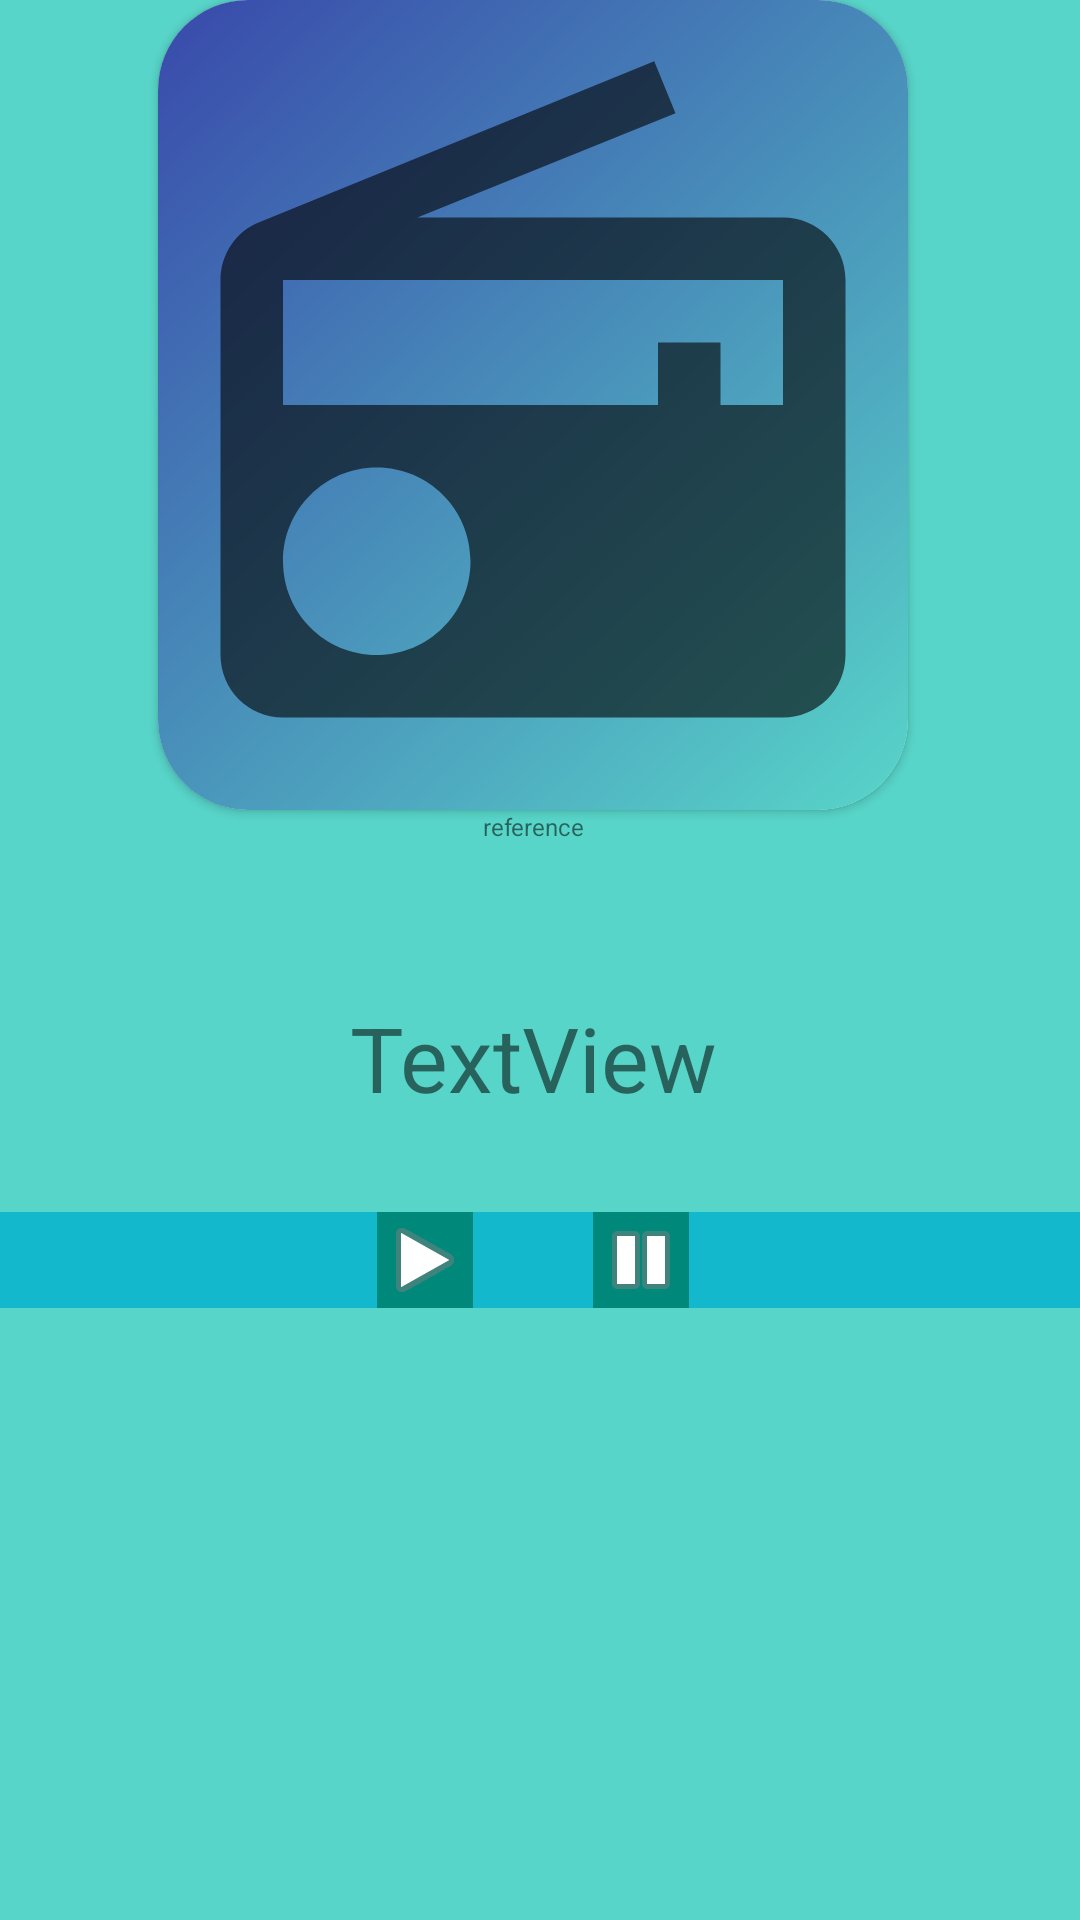

Point at icon controls on the screen. Image size 1080px x 1920px, points as [x,y].
pause: [641,1260]
play: [425,1260]
